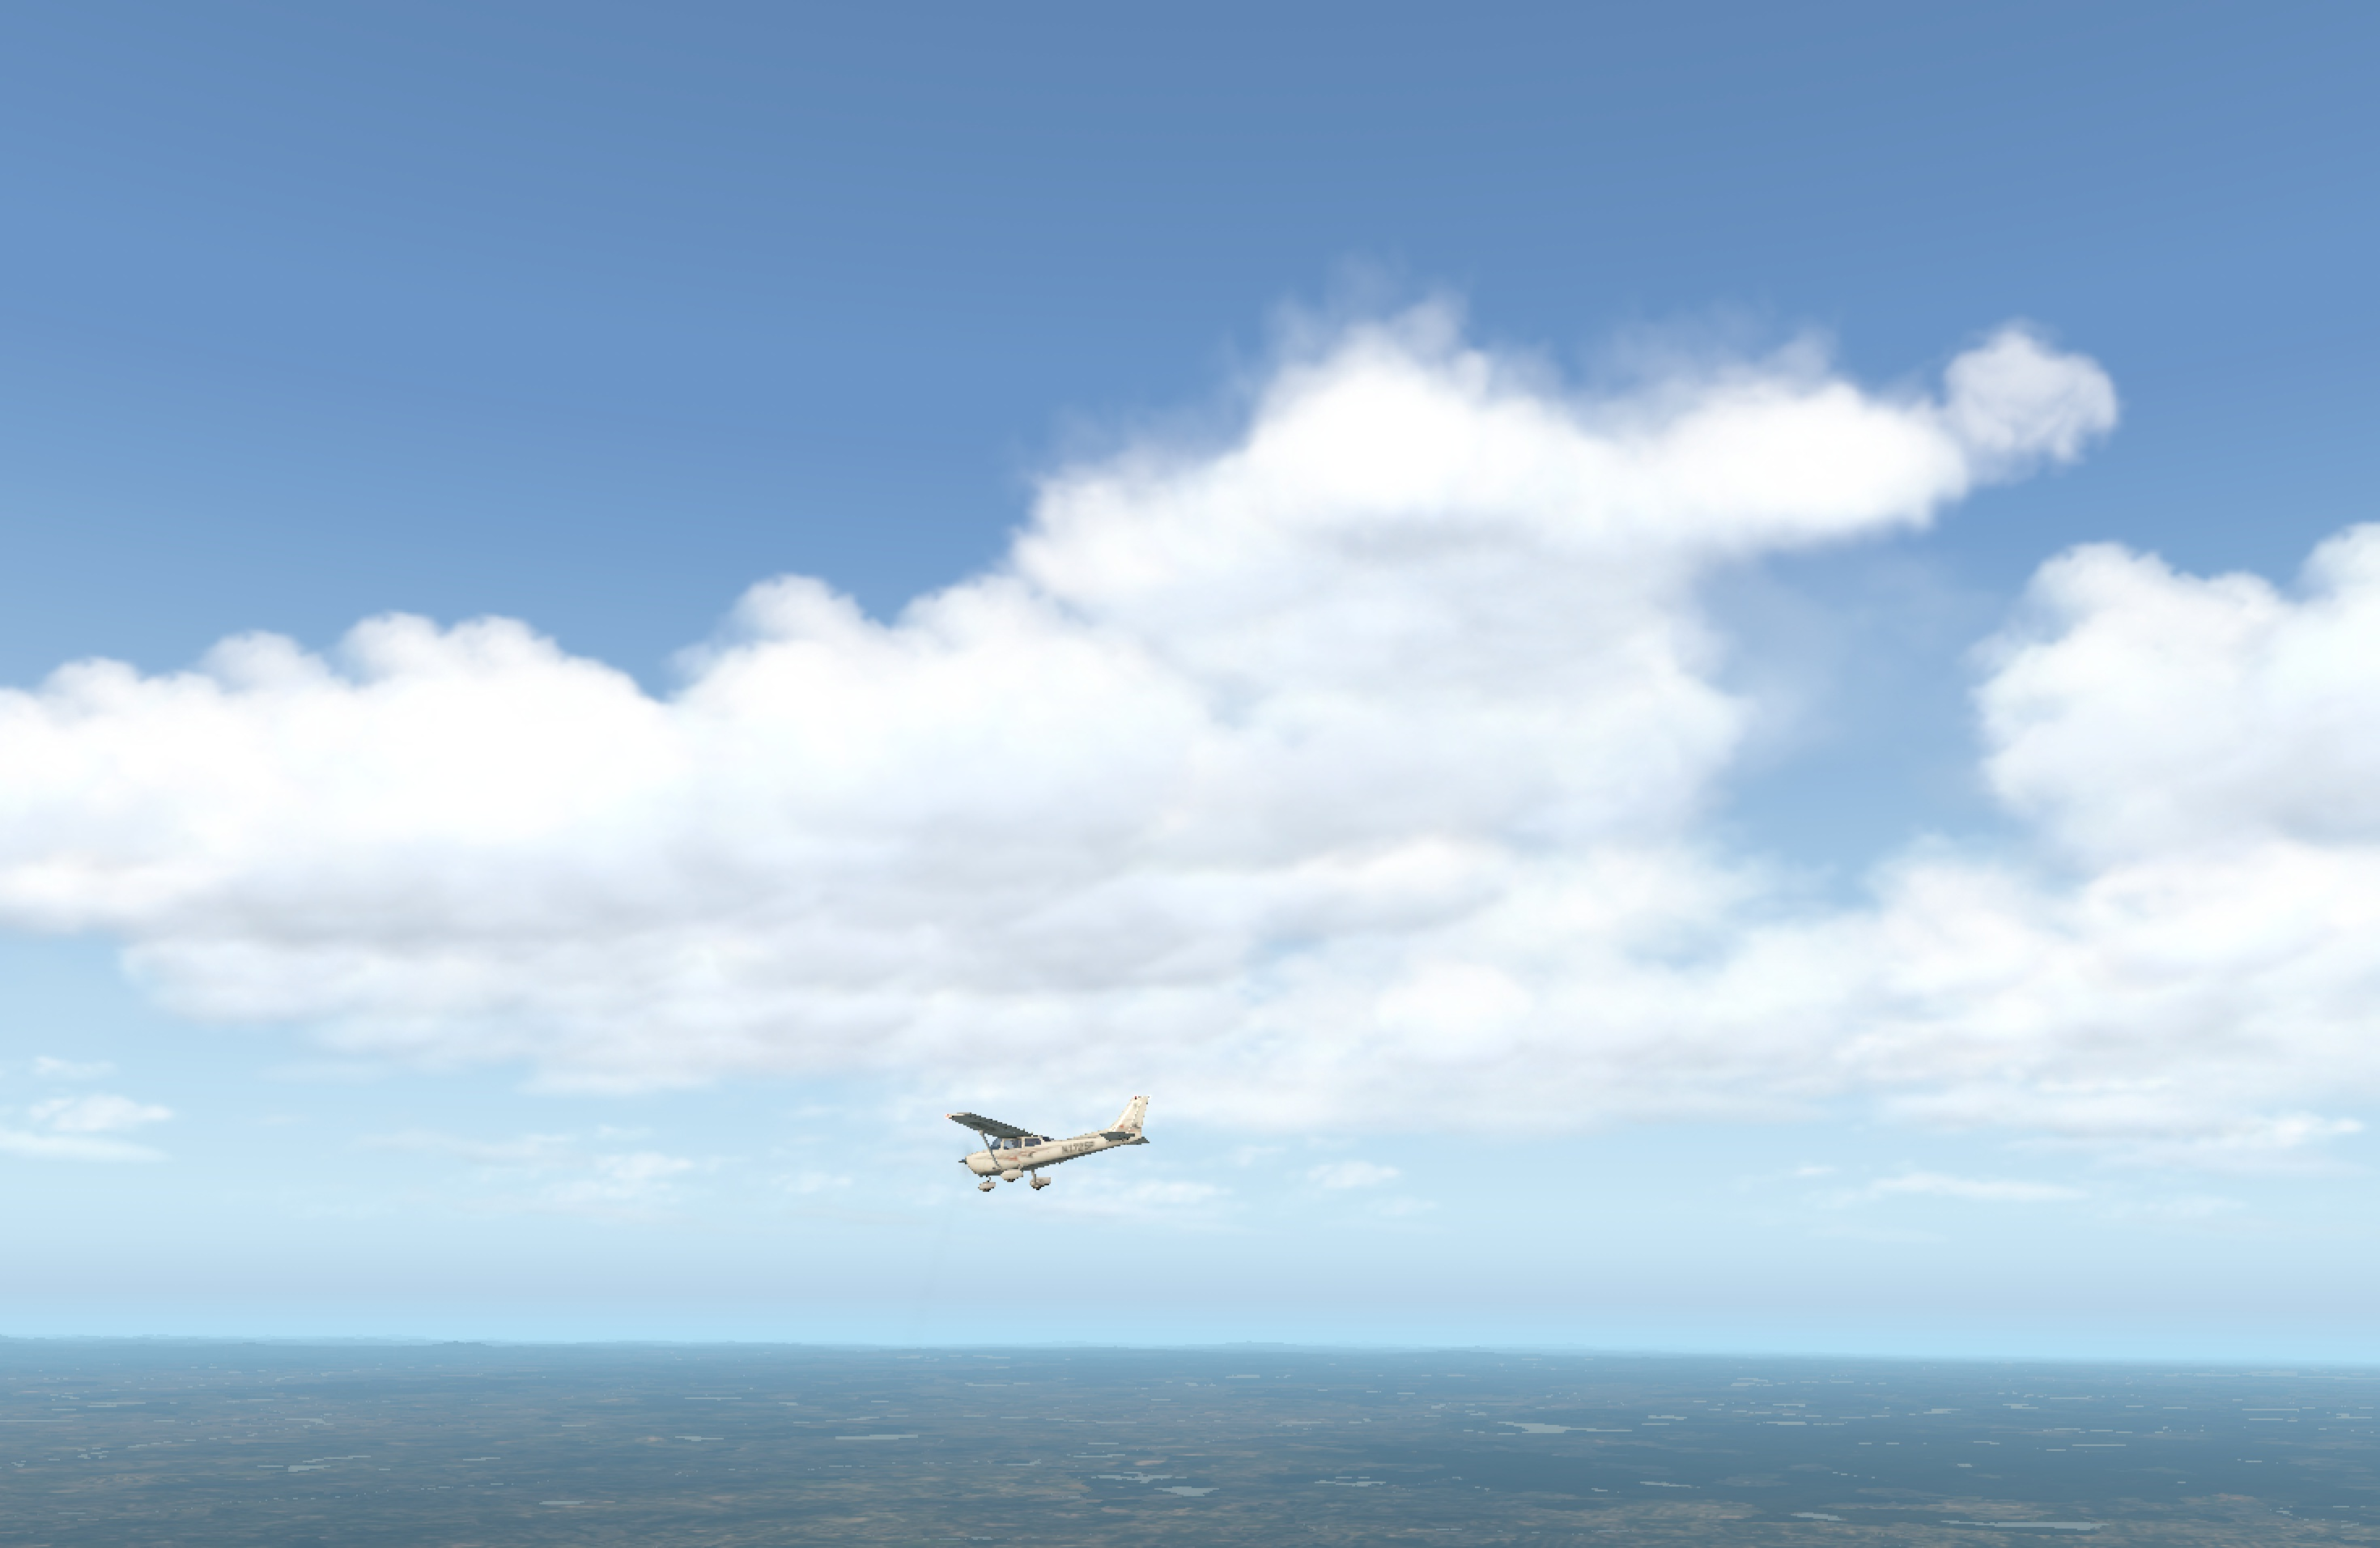aircraft: (918, 1116, 1114, 1189)
